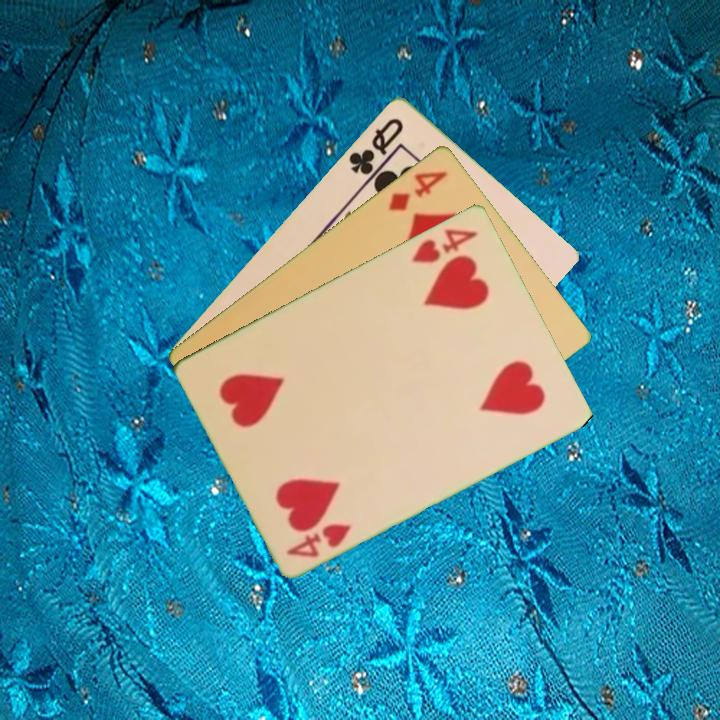4d: (384, 167, 451, 214)
4h: (408, 224, 482, 266), (282, 519, 354, 560)
Qc: (345, 113, 407, 186)
